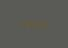eight: (24, 19, 29, 27)
five: (36, 20, 41, 28)
one: (42, 20, 47, 28)
six: (18, 19, 23, 27)
zero: (30, 19, 35, 28)
